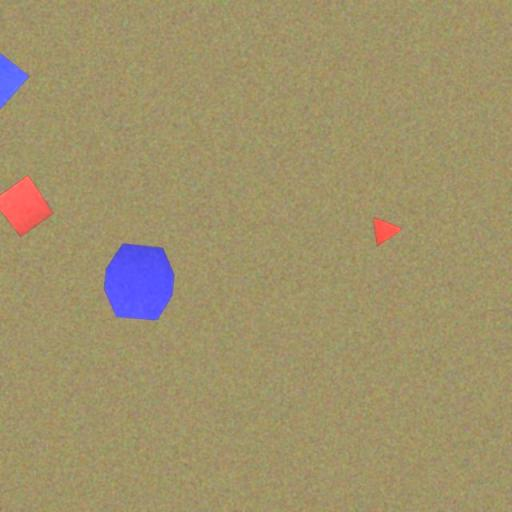RED_SQUARE: (0, 174, 54, 237)
